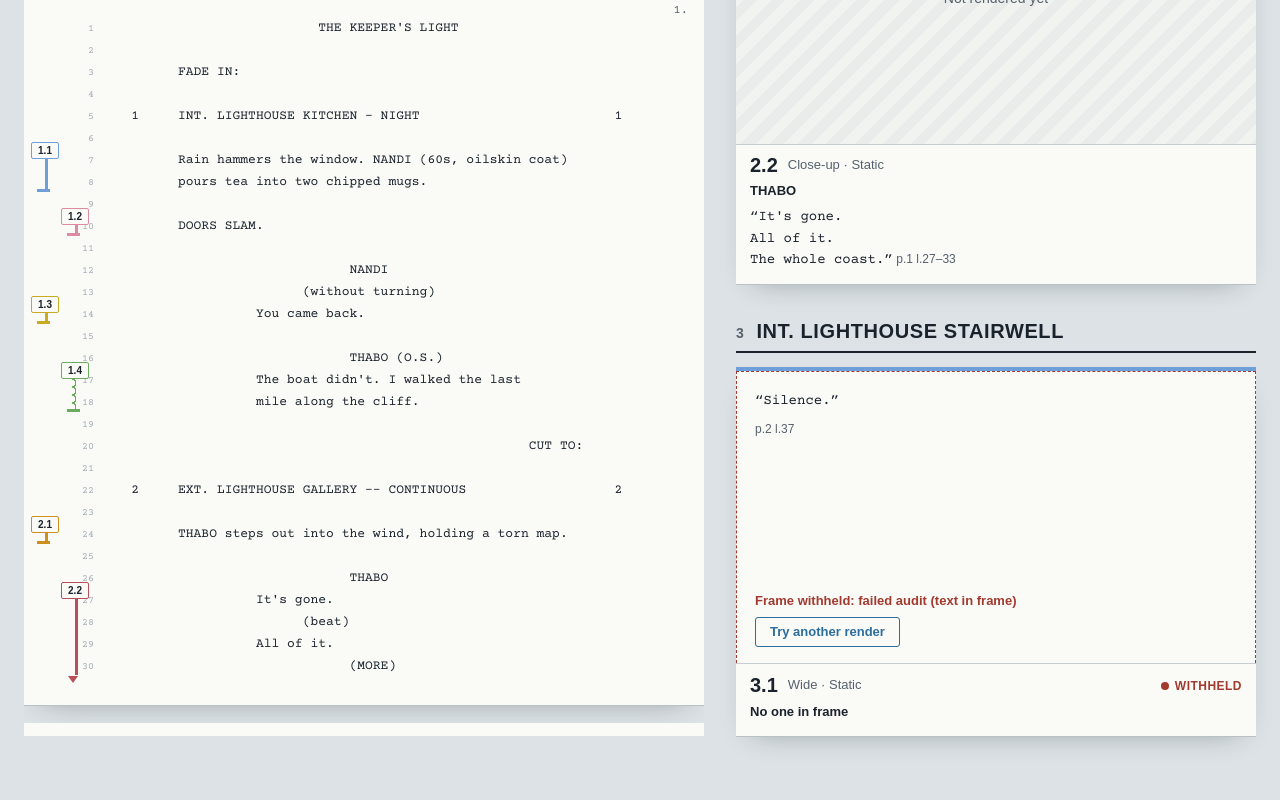
Try another render (web.md §4.3) › a 503 says so under the button
(page scrolled)
Click the button: (827, 632) [755, 617, 900, 647]
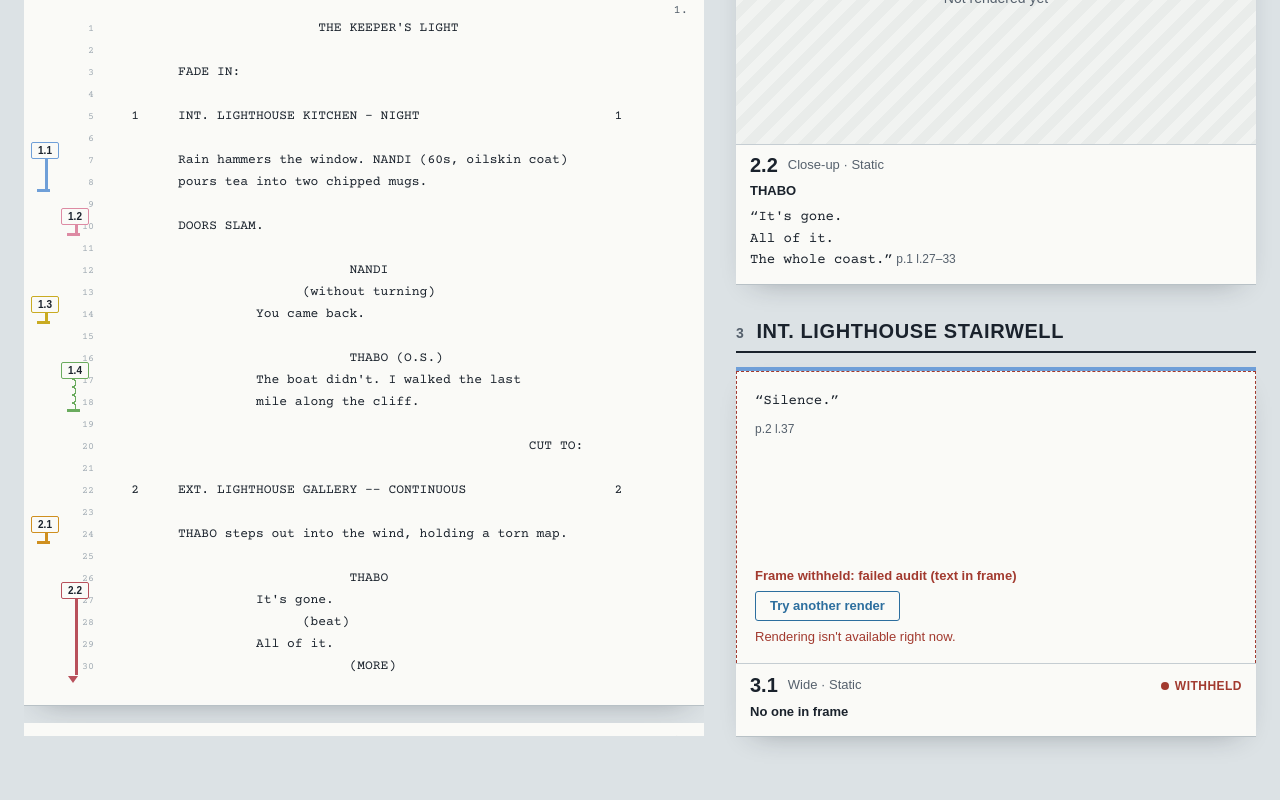
Expected: the button reads "Try another render", [755, 591, 900, 621]
Now the message reads "Rendering isn't available right now.", box [755, 629, 956, 644]
